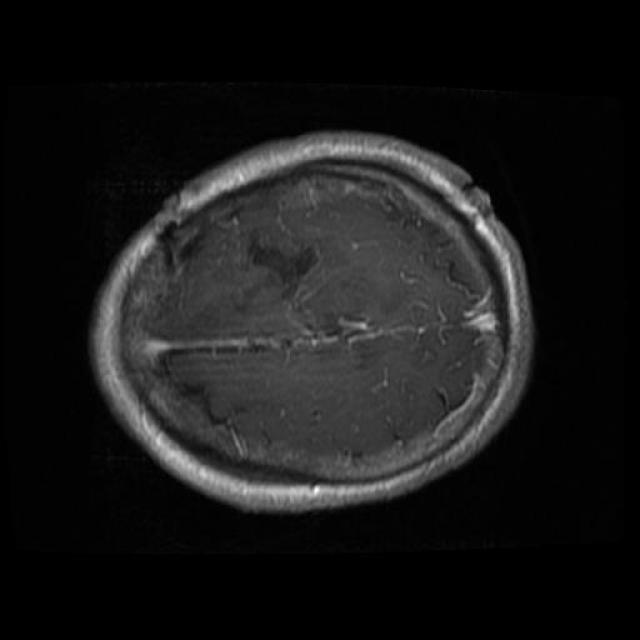Glioma: (248, 239, 316, 283)
